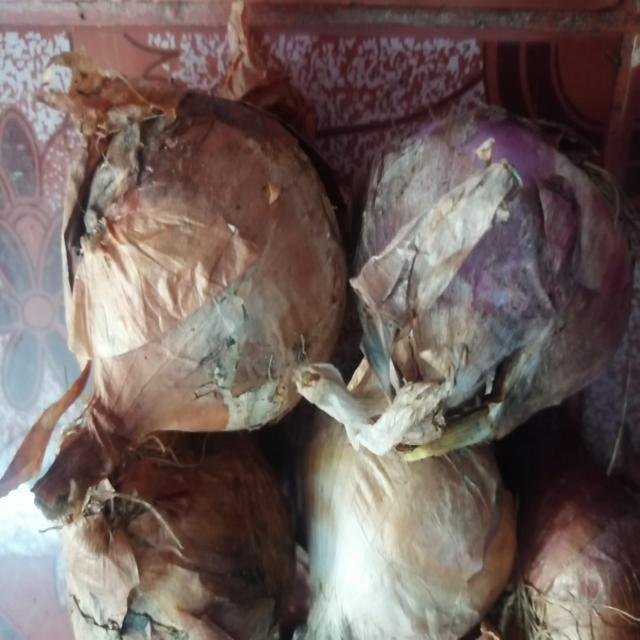rotten: (353, 277, 519, 424), (85, 118, 208, 240)
